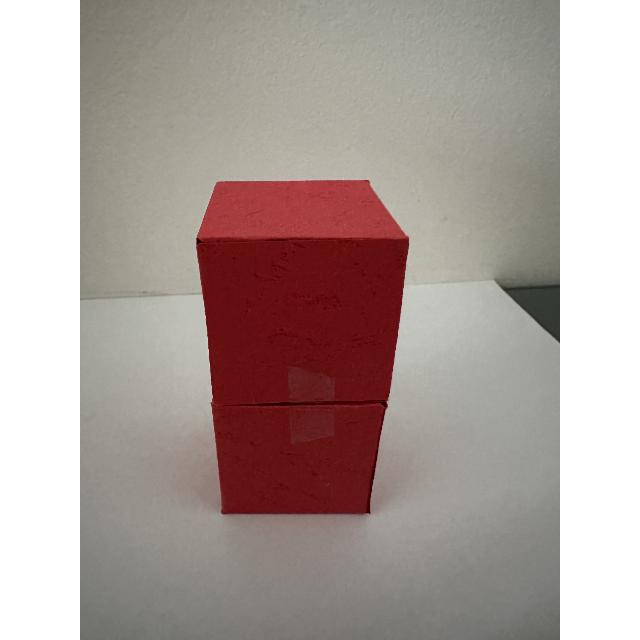red_cube: (198, 128, 436, 548)
